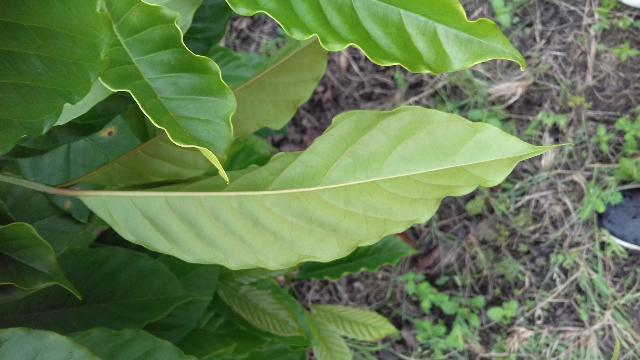healthy: (81, 109, 575, 270)
